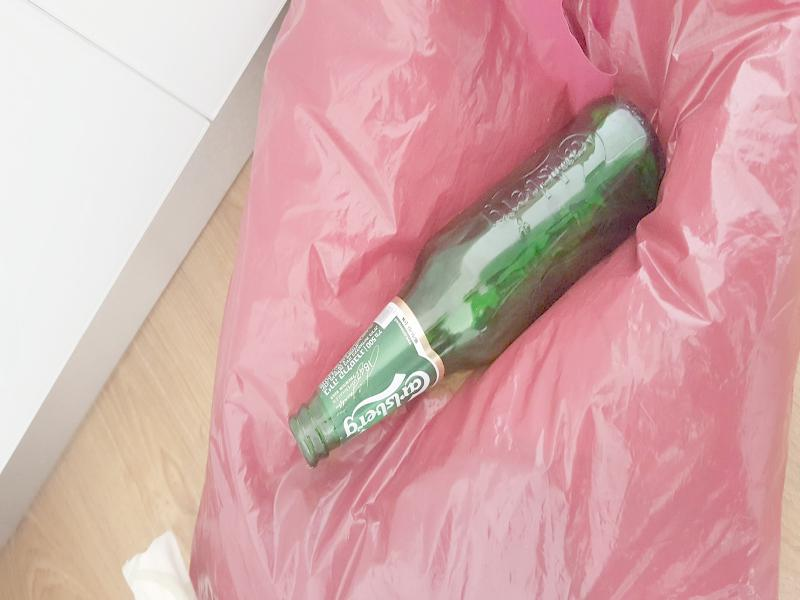Beer: (288, 100, 663, 467)
